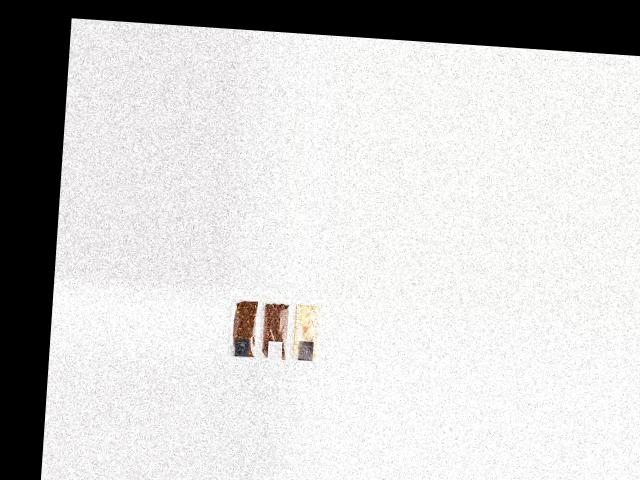chocolate: (222, 293, 260, 356)
